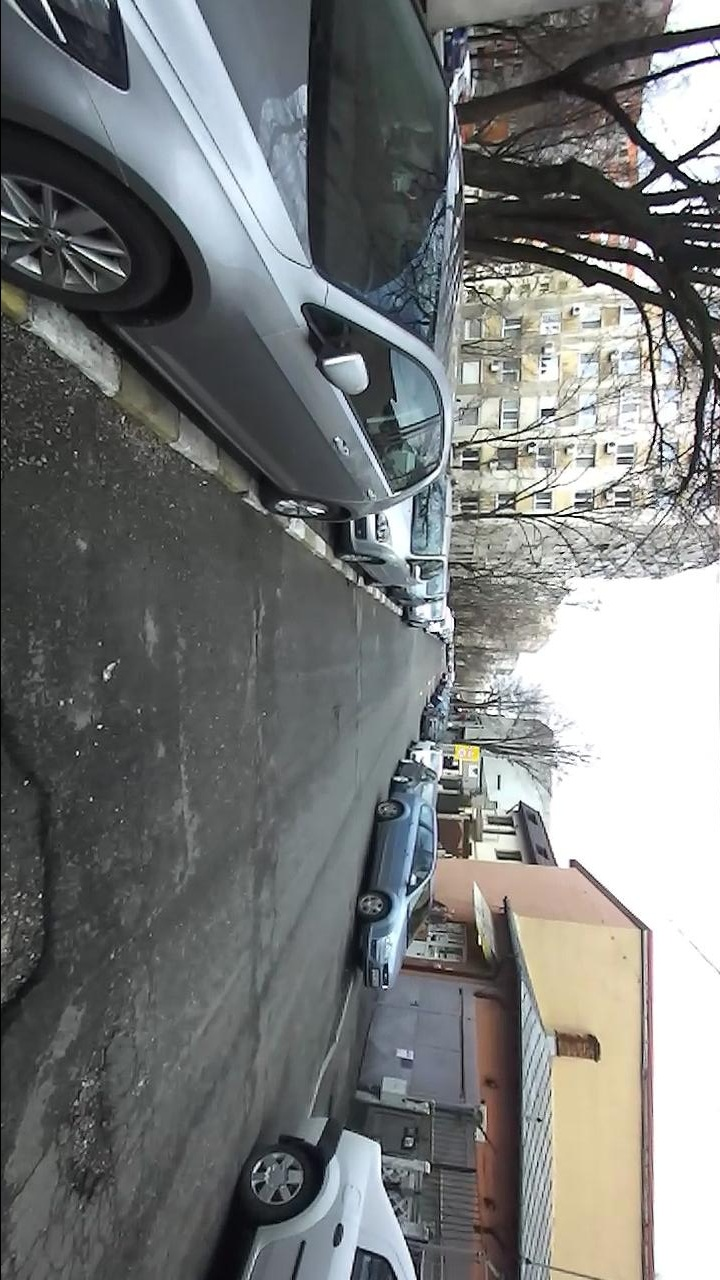pothole: (1, 697, 65, 1062), (54, 1029, 125, 1214), (246, 592, 270, 678)
